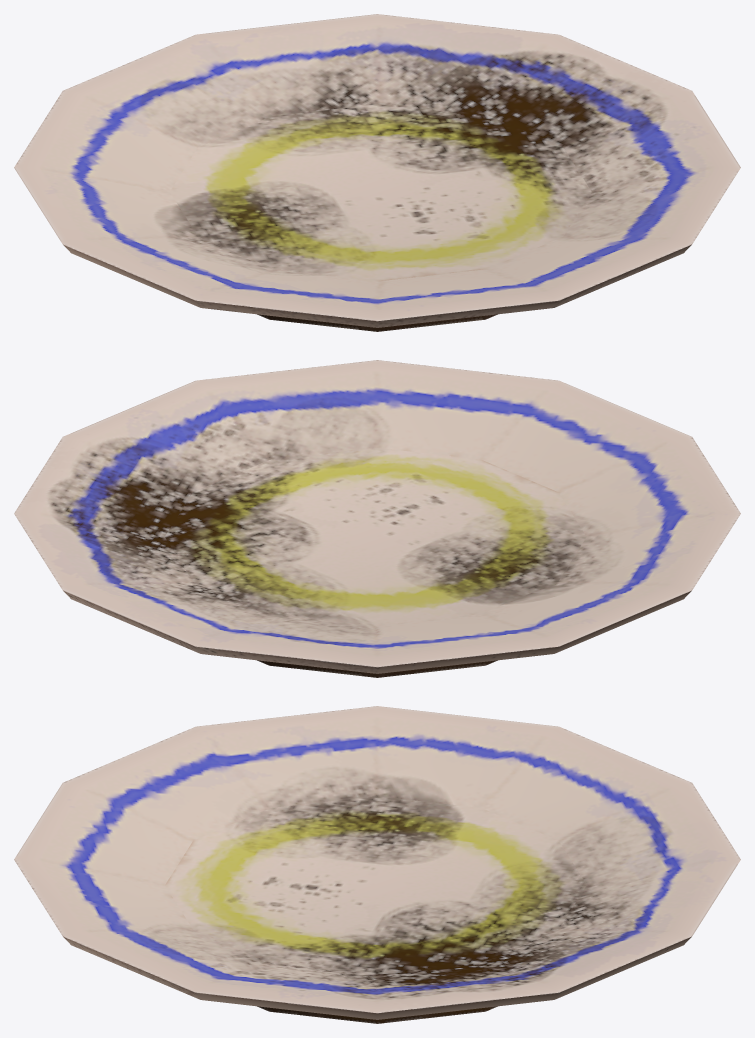
The model's file is PROP_014_Plate.fbx.
The picture shows the model from 3 angles, top to bottom: view 1: azimuth 30°, elevation 25°; view 2: azimuth 150°, elevation 25°; view 3: azimuth 270°, elevation 25°; orthographic projection.
Parts seen in each view (by area): view 1: Plato.001; view 2: Plato.001; view 3: Plato.001.
Part boxes in pixels (x1,y1,x2,y2): Plato.001: [14, 14, 740, 331]; Plato.001: [14, 360, 740, 677]; Plato.001: [14, 706, 740, 1023].
Size of the model in its own units: 0.4617 by 0.0511 by 0.4617.
1 material, 1 textured.
